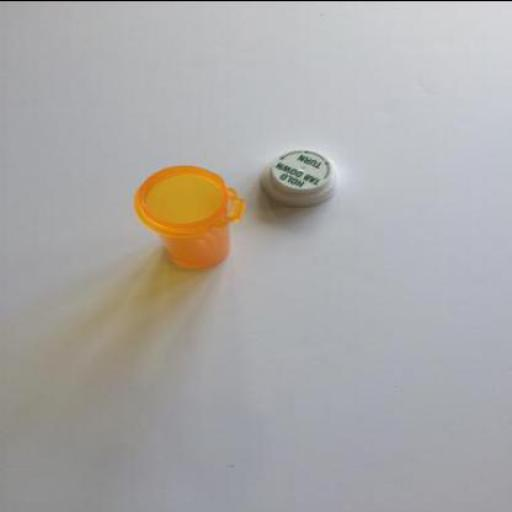plastic: (139, 162, 245, 266), (137, 163, 246, 235), (261, 147, 337, 206)
